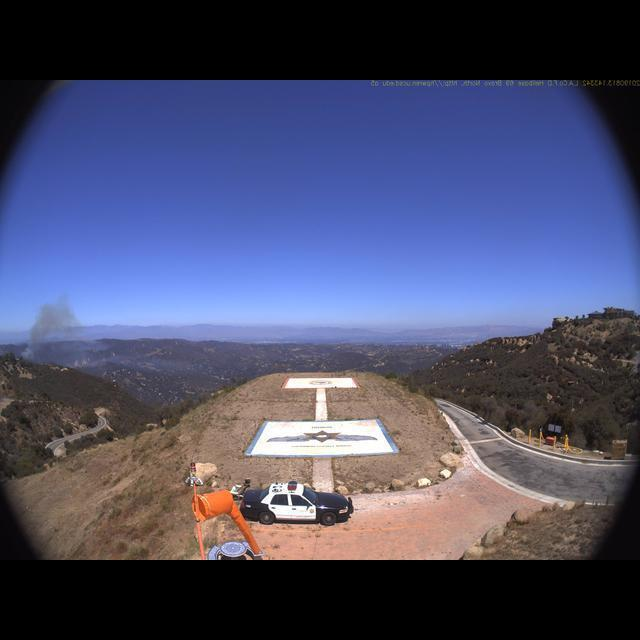Smoke: (19, 293, 87, 364)
